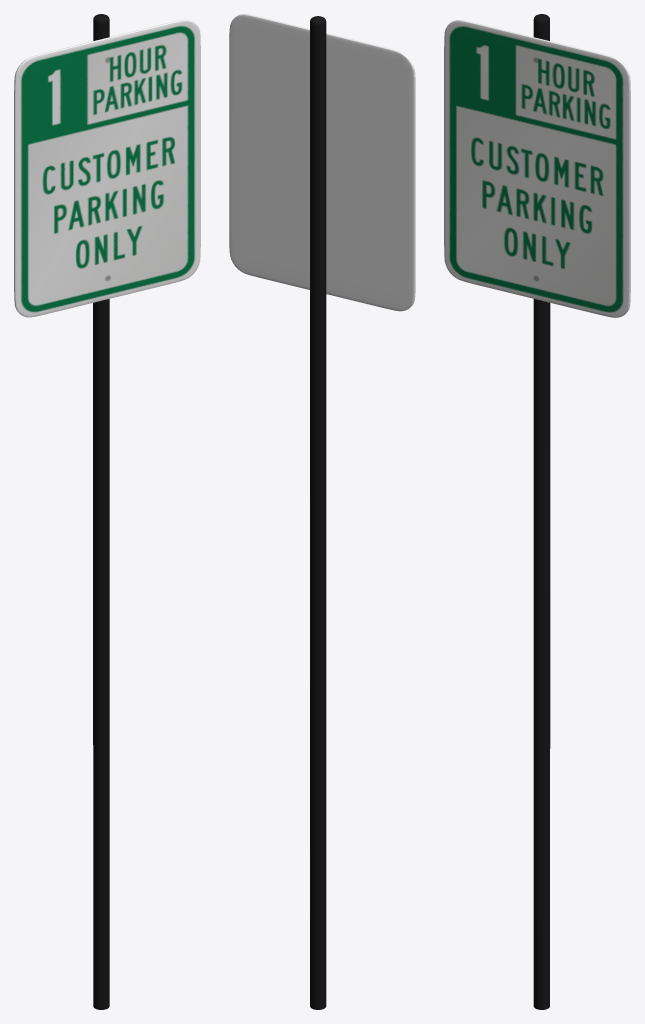
3 views of the same model, side by side, from view 1: azimuth 30°, elevation 25°; view 2: azimuth 150°, elevation 25°; view 3: azimuth 330°, elevation 25° (orthographic).
Visible parts, largest first — view 1: parkingsign_merged_mesh_result; view 2: parkingsign_merged_mesh_result; view 3: parkingsign_merged_mesh_result.
Boxes of the visible parts, left/top/right/bottom form: parkingsign_merged_mesh_result: left=14, top=14, right=200, bottom=1009; parkingsign_merged_mesh_result: left=229, top=14, right=415, bottom=1009; parkingsign_merged_mesh_result: left=444, top=14, right=630, bottom=1009.
Bounding box in the file's own units: 36.98 × 188 × 3.51.
2 materials, 2 textured.
